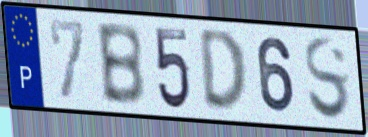5: (153, 25, 191, 110)
6: (255, 34, 297, 117)
7: (47, 16, 87, 102)
B: (93, 21, 148, 109)
D: (196, 28, 250, 117)
S: (302, 34, 353, 125)
